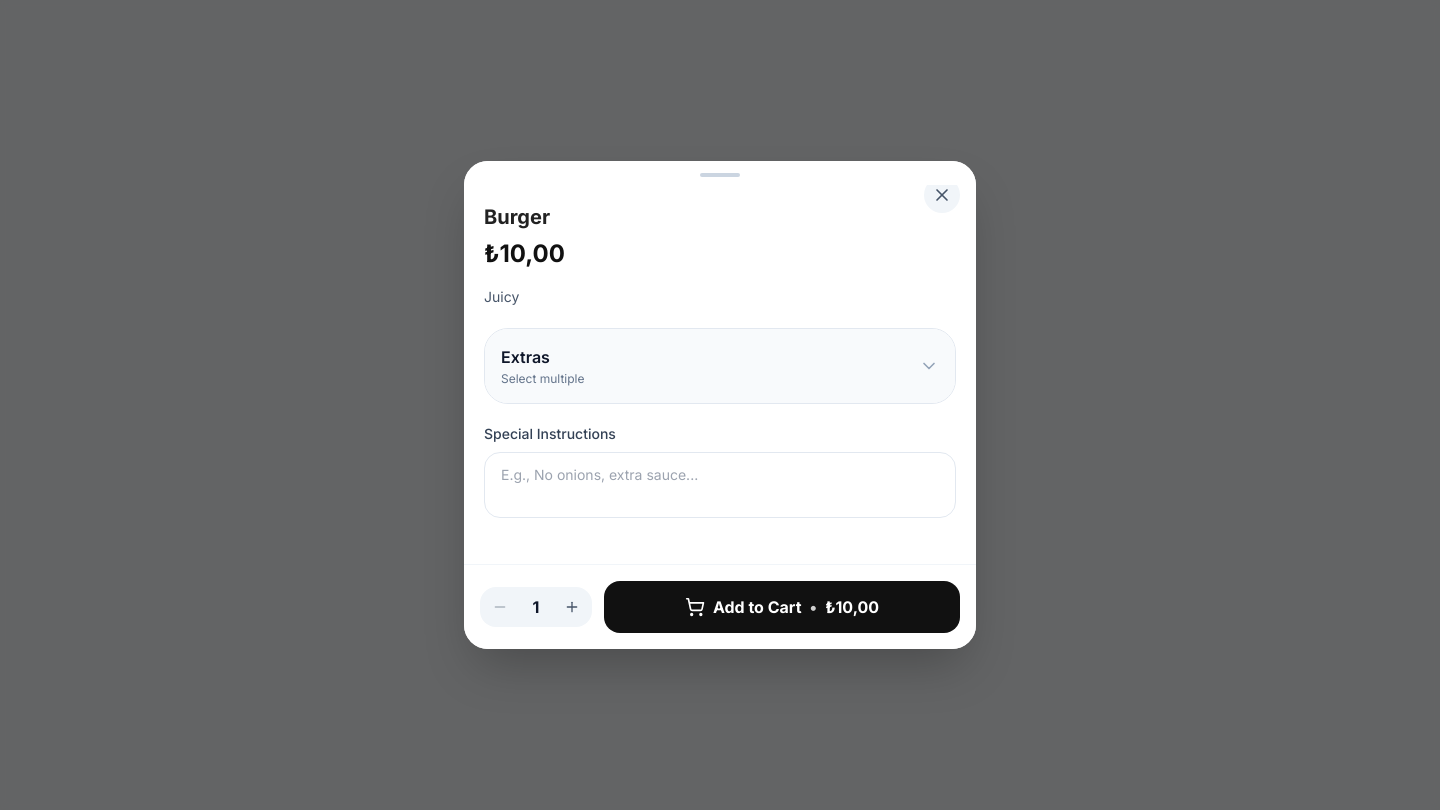
it: ProductDetailModalWithCart — money total › multiplies (price + modifier adjustments) by quantity
What coordinates should you click on to do the following:
click the button "Extras Select multiple"
I would click on:
 (525, 357)
Its box is x1=485 y1=329 x2=955 y2=403.
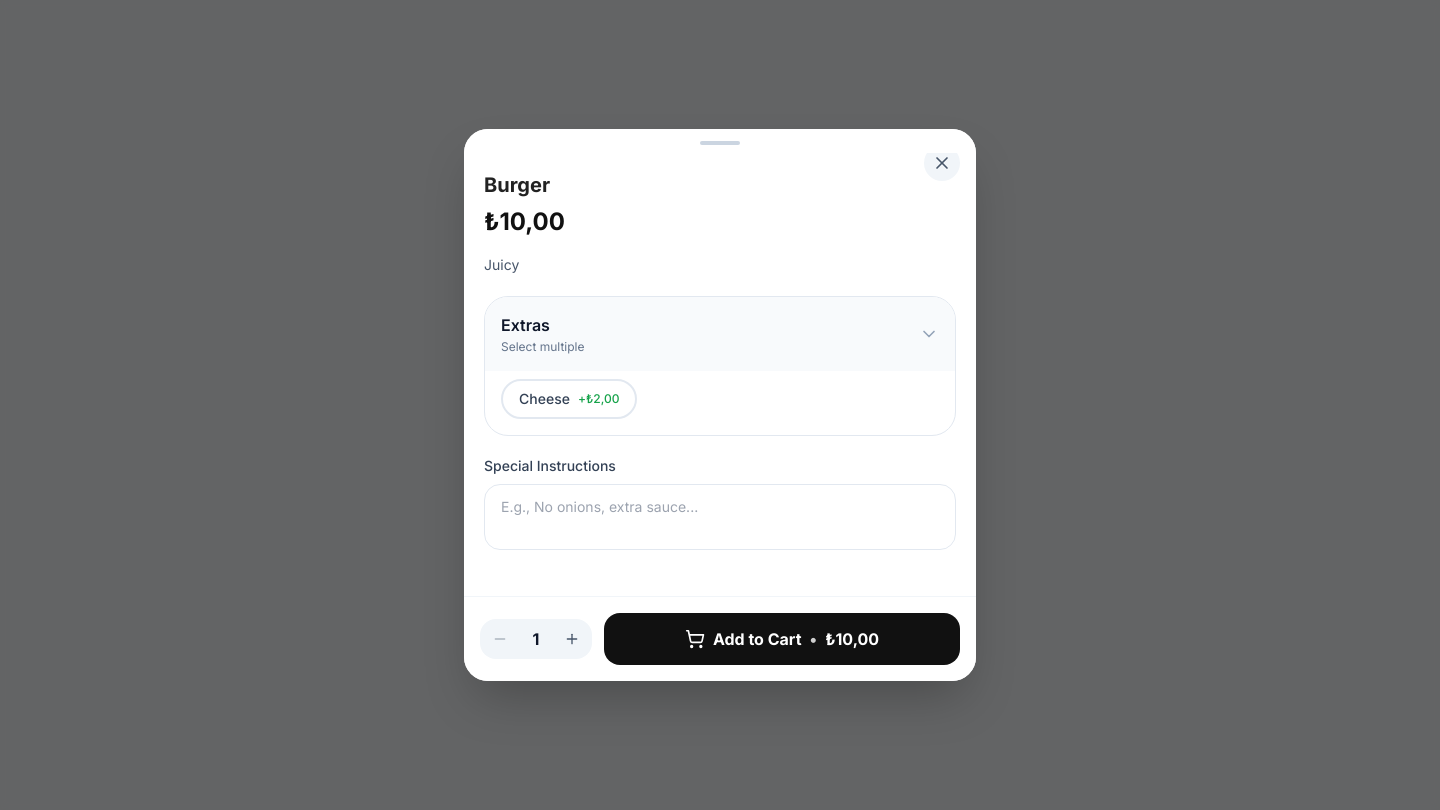
What coordinates should you click on to do the following:
click the button "Cheese +₺2,00"
I would click on:
 (569, 399)
Its box is x1=501 y1=379 x2=638 y2=419.
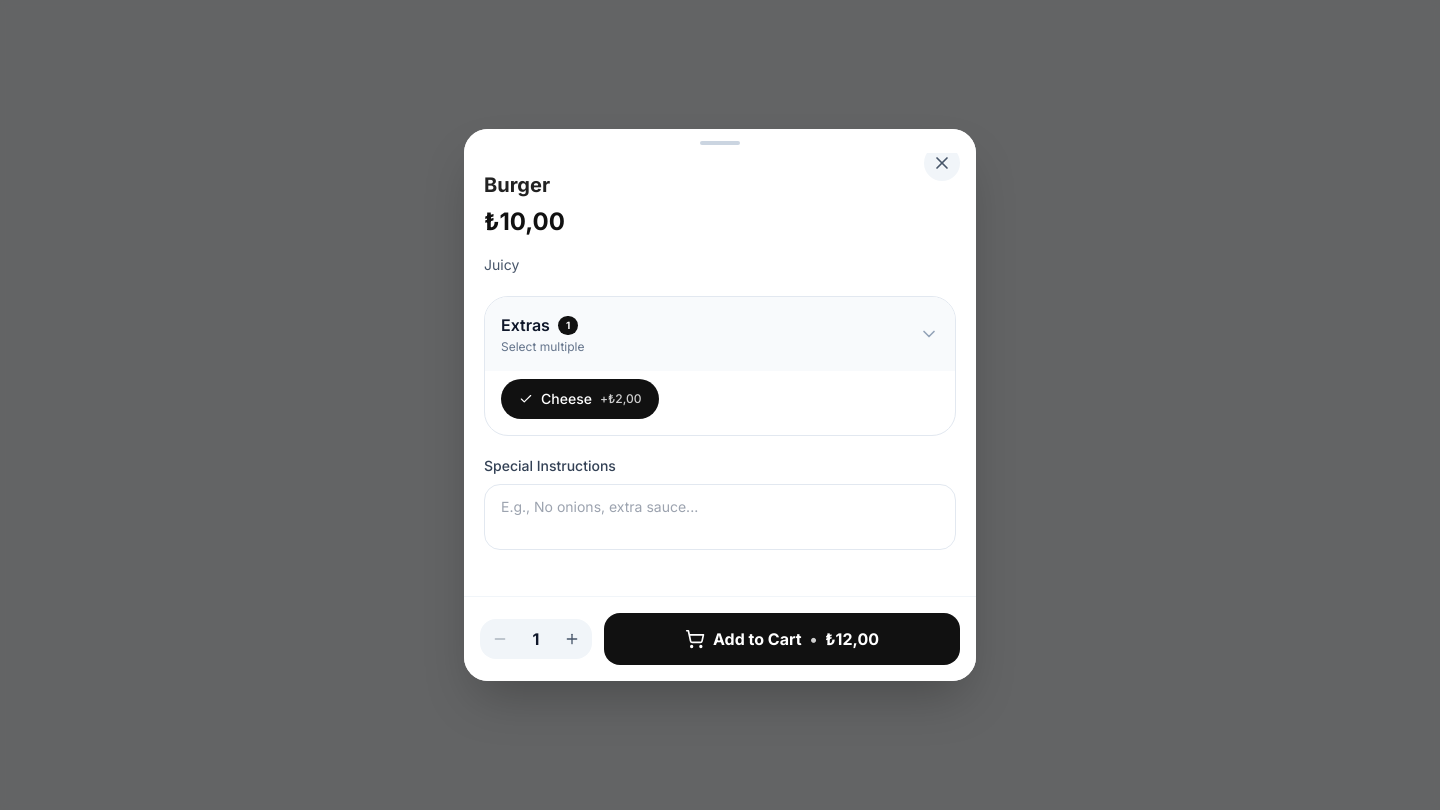
Check: the button "Add to Cart • ₺12,00" is shown, box x1=604 y1=613 x2=960 y2=665
What coordinates should you click on to do the following:
click the 5th button
I would click on:
 (572, 639)
Its box is x1=552 y1=619 x2=592 y2=659.
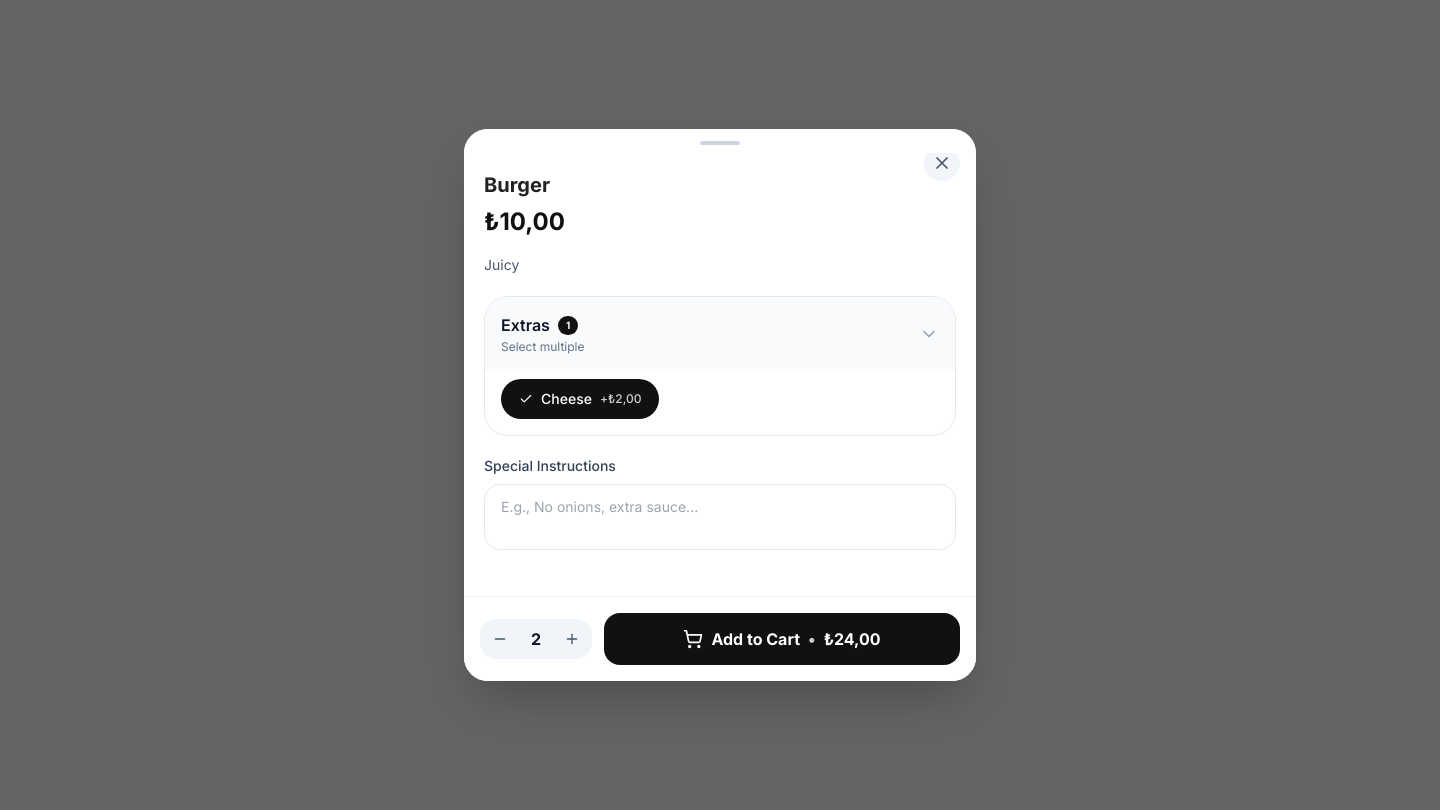
Check: the button "Add to Cart • ₺24,00" is shown, box x1=604 y1=613 x2=960 y2=665
